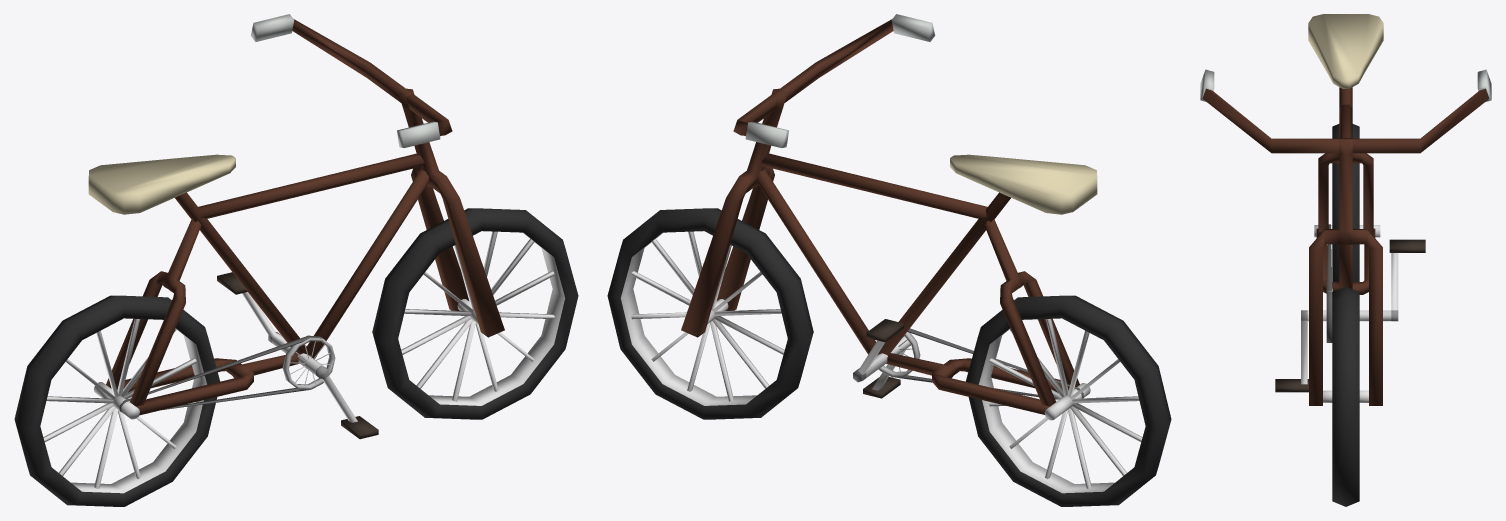
Rendered from Bicycle_03.glb.
3 renders of one model, left to right at view 1: azimuth 30°, elevation 25°; view 2: azimuth 150°, elevation 25°; view 3: azimuth 270°, elevation 25°, orthographic. The views are drawn at different scales.
Parts seen in each view (by area): view 1: Bicycle_03; view 2: Bicycle_03; view 3: Bicycle_03.
Boxes of the visible parts, x1,y1,x2,y2 form: Bicycle_03: (14,14,578,506); Bicycle_03: (607,14,1171,506); Bicycle_03: (1200,14,1491,506).
Size of what is drawn, in the model's own units: 1.77 by 1.14 by 0.84.
1 material, 1 textured.
